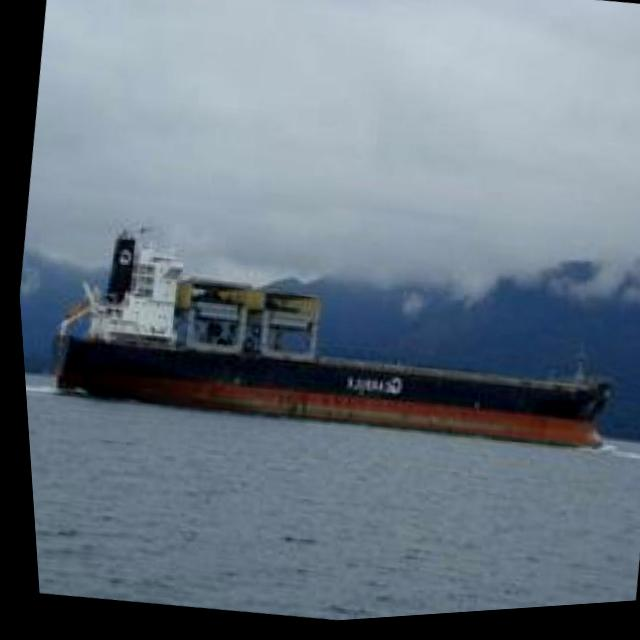ship2: (45, 234, 608, 459)
